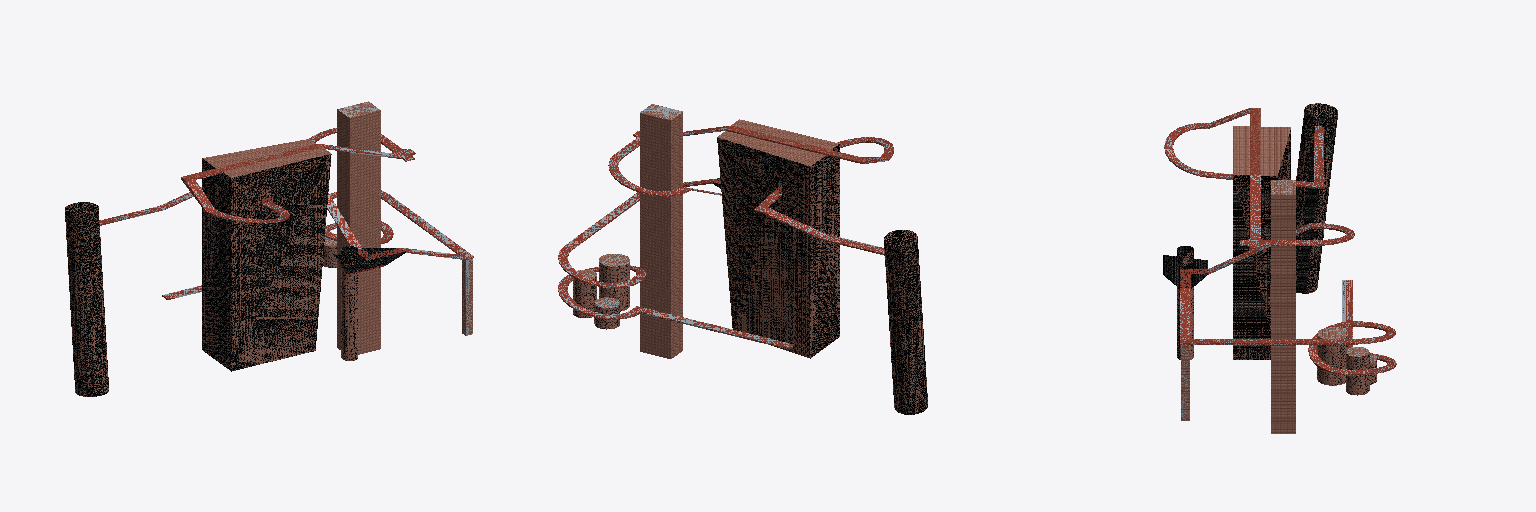
The picture shows the model from 3 angles: view 1: azimuth 30°, elevation 25°; view 2: azimuth 150°, elevation 25°; view 3: azimuth 270°, elevation 25°; orthographic projection.
Visible parts, largest first — view 1: Mesh1 Model, Mesh5 Model; view 2: Mesh1 Model, Mesh5 Model, Mesh4 Model, Mesh3 Model, Mesh2 Model; view 3: Mesh1 Model, Mesh5 Model, Mesh4 Model, Mesh3 Model.
Boxes of the visible parts, x1,y1,x2,y2 form: Mesh1 Model: [65, 128, 473, 396]; Mesh5 Model: [337, 101, 380, 354]; Mesh1 Model: [558, 119, 927, 414]; Mesh5 Model: [640, 104, 682, 358]; Mesh4 Model: [599, 254, 629, 311]; Mesh3 Model: [573, 270, 596, 317]; Mesh2 Model: [594, 297, 619, 329]; Mesh1 Model: [1163, 103, 1396, 420]; Mesh5 Model: [1271, 180, 1295, 433]; Mesh4 Model: [1317, 327, 1348, 385]; Mesh3 Model: [1346, 347, 1369, 395].
Size of the model in its own units: 113 by 76.85 by 68.08.
54 materials, 52 textured.